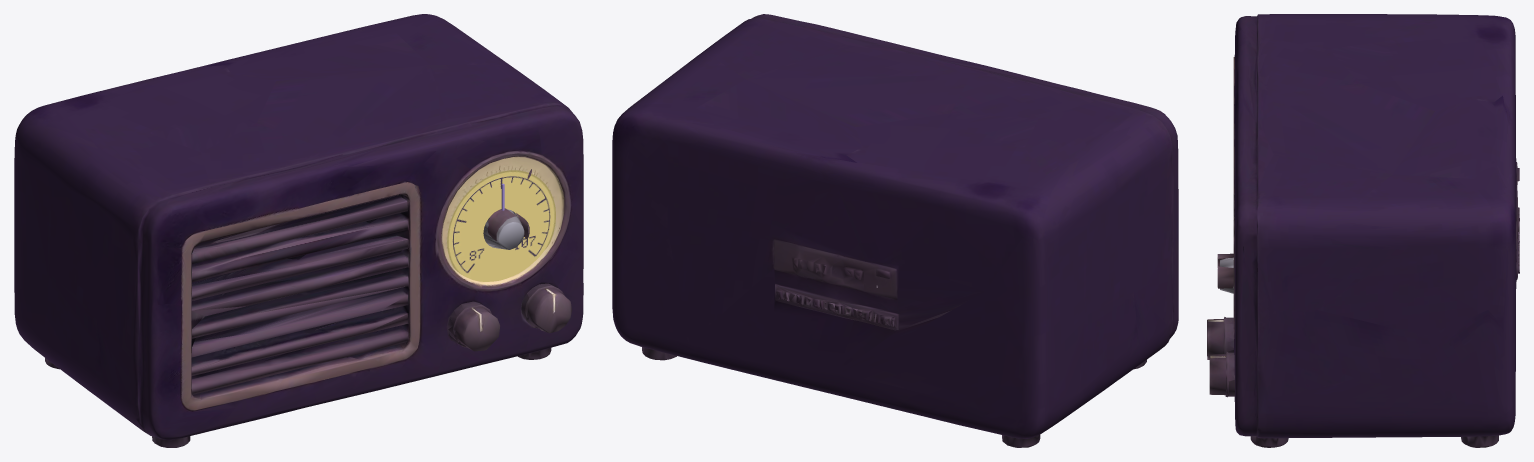
The model's file is radio.glb.
3 views of the same model, side by side, from view 1: azimuth 30°, elevation 25°; view 2: azimuth 150°, elevation 25°; view 3: azimuth 270°, elevation 25° (orthographic).
Visible parts, largest first — view 1: body, dial, knob_left, knob_right; view 2: body; view 3: body, knob_right, knob_left.
Part boxes in pixels (x1,y1,x2,y2): body: (14,14,583,447); dial: (447,170,555,281); knob_left: (448,302,499,351); knob_right: (524,283,571,332); body: (612,14,1178,447); body: (1217,14,1519,447); knob_right: (1209,351,1234,397); knob_left: (1207,317,1233,359).
Bounding box in the file's own units: 0.3599 × 0.1967 × 0.2247.
2 materials, 2 textured.
